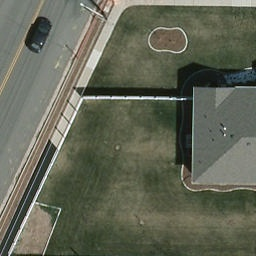car: (25, 18, 54, 53)
